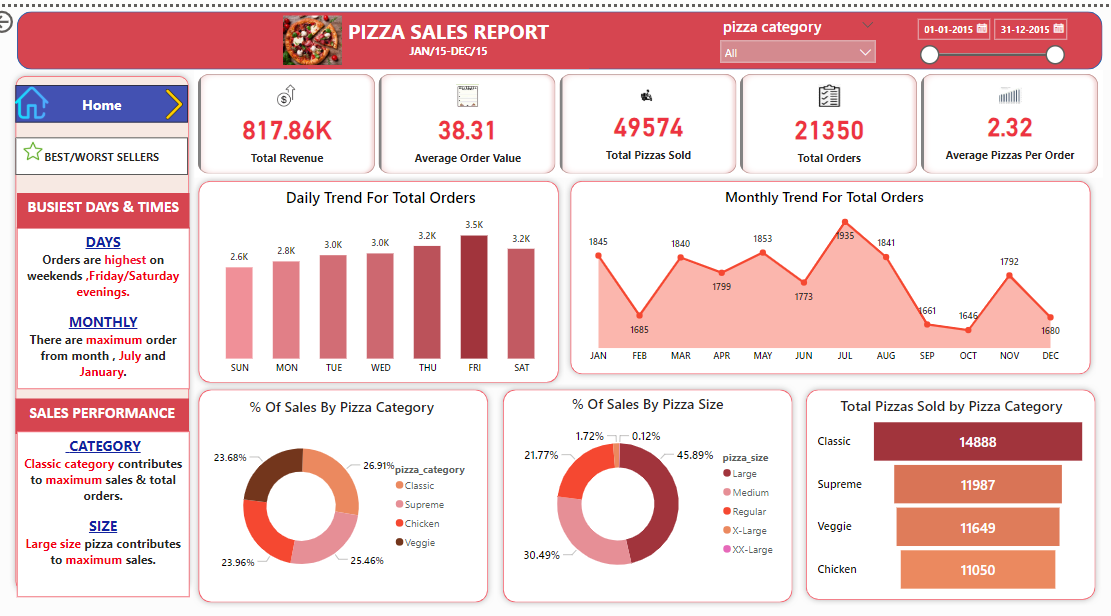

The dashboard page shown, as its layout file describes it:
{"tool":"powerbi","page":{"name":"Home","canvas":[1500,820],"ordinal":0},"visuals":[{"type":"actionButton","box":[0,0,100,39.6],"z":0},{"type":"cardVisual","fields":{"Data":["pizza_sales.Total Revenue","pizza_sales.Average Order Value","pizza_sales.Total Pizzas Sold","pizza_sales.Total Orders","pizza_sales.Average Pizzas Per Order"]},"box":[276.5,84.3,1211.8,143.1],"z":1000},{"type":"shape","box":[39.6,5.7,1447.2,77.4],"z":2000},{"type":"textbox","box":[427.5,7.8,374.5,74.5],"z":3000},{"type":"image","box":[341.2,5.9,184.3,76.5],"z":4000},{"type":"shape","box":[273.6,224.5,496.2,284.9],"z":5000},{"type":"shape","box":[273.6,501.9,401.9,300],"z":6000},{"type":"shape","box":[769.8,224.5,709.4,273.6],"z":7000},{"type":"columnChart","title":"Daily Trend For Total Orders","fields":{"Category":["pizza_sales.Order Day"],"Y":["pizza_sales.Total Orders"]},"box":[288.7,239.6,473.6,258.5],"z":8000},{"type":"areaChart","title":"Monthly Trend For Total Orders ","fields":{"Category":["pizza_sales.Order Month"],"Y":["pizza_sales.Total Orders"]},"box":[788.7,239.6,656.6,243.4],"z":9000},{"type":"shape","box":[30.2,83,247.2,703.8],"z":10000},{"type":"shape","box":[679.2,501.9,401.9,300],"z":11000},{"type":"shape","box":[1084.9,501.9,401.9,296.2],"z":12000},{"type":"textbox","box":[37.3,521.6,231.4,47.1],"z":13000},{"type":"donutChart","title":"% Of Sales By Pizza Category","fields":{"Category":["pizza_sales.pizza_category"],"Y":["pizza_sales.Total Revenue"]},"box":[288.7,520.8,369.8,266],"z":14000},{"type":"donutChart","title":"% Of Sales By Pizza Size","fields":{"Y":["pizza_sales.Total Revenue"],"Series":["pizza_sales.pizza_size"],"Category":["pizza_sales.pizza_size"]},"box":[696.2,515.1,369.8,267.9],"z":15000},{"type":"funnel","title":"Total Pizzas Sold by Pizza Category","fields":{"Category":["pizza_sales.pizza_category"],"Y":["pizza_sales.Total Pizzas Sold"]},"box":[1101.9,518.9,367.9,267.9],"z":16000},{"type":"textbox","box":[39.6,294.3,230.2,215.1],"z":17000},{"type":"textbox","box":[39.6,247.2,230.2,47.2],"z":18000},{"type":"textbox","box":[39.6,566,230.2,220.8],"z":19000},{"type":"slicer","fields":{"Values":["pizza_sales.pizza_category"]},"box":[967.9,5.7,226.4,79.2],"z":20000},{"type":"slicer","fields":{"Values":["pizza_sales.order_date"]},"box":[1228.3,5.7,217,79.2],"z":21000},{"type":"pageNavigator","box":[37.7,103.8,230.2,50.9],"z":22000},{"type":"pageNavigator","box":[37.7,173.6,230.2,50.9],"z":23000},{"type":"image","box":[209.4,103.8,79.2,50.9],"z":24000},{"type":"image","box":[37.7,173.6,47.2,35.8],"z":25000},{"type":"image","box":[32.1,100,54.7,54.7],"z":26000}]}

Visuals, with their boxes in screenshot pixels (x1, y1, x2, y2), scaled from the page's 1500x820 canvas onto the 1111x616 screenshot:
actionButton: box(0, 0, 74, 30)
cardVisual - pizza_sales.Total Revenue x pizza_sales.Average Order Value: box(205, 63, 1102, 171)
shape: box(29, 4, 1101, 62)
textbox: box(317, 6, 594, 62)
image: box(253, 4, 389, 62)
shape: box(203, 169, 570, 383)
shape: box(203, 377, 500, 602)
shape: box(570, 169, 1096, 374)
"Daily Trend For Total Orders" columnChart: box(214, 180, 565, 374)
"Monthly Trend For Total Orders " areaChart: box(584, 180, 1070, 363)
shape: box(22, 62, 205, 591)
shape: box(503, 377, 801, 602)
shape: box(804, 377, 1101, 600)
textbox: box(28, 392, 199, 427)
"% Of Sales By Pizza Category" donutChart: box(214, 391, 488, 591)
"% Of Sales By Pizza Size" donutChart: box(516, 387, 790, 588)
"Total Pizzas Sold by Pizza Category" funnel: box(816, 390, 1089, 591)
textbox: box(29, 221, 200, 383)
textbox: box(29, 186, 200, 221)
textbox: box(29, 425, 200, 591)
slicer - pizza_sales.pizza_category: box(717, 4, 885, 64)
slicer - pizza_sales.order_date: box(910, 4, 1070, 64)
pageNavigator: box(28, 78, 198, 116)
pageNavigator: box(28, 130, 198, 169)
image: box(155, 78, 214, 116)
image: box(28, 130, 63, 157)
image: box(24, 75, 64, 116)
